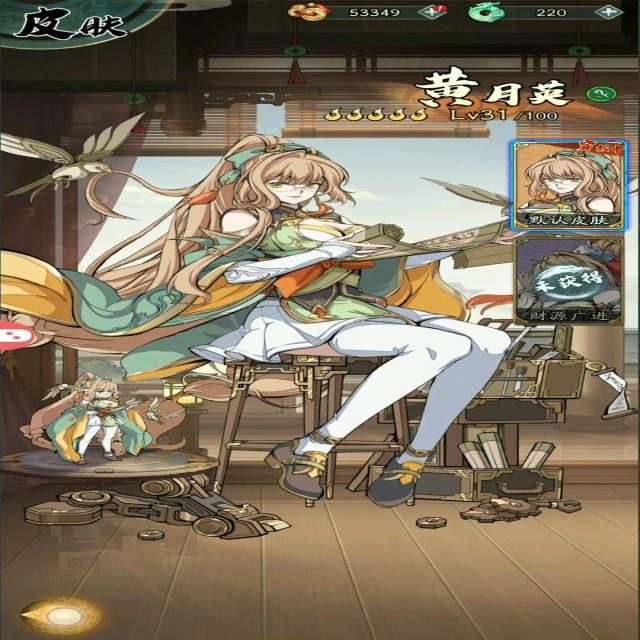hint-reddot: (433, 3, 448, 15)
operation-back: (11, 597, 97, 632)
operation-confirm: (492, 134, 634, 237)
operation-confirm-off: (498, 236, 640, 338)
